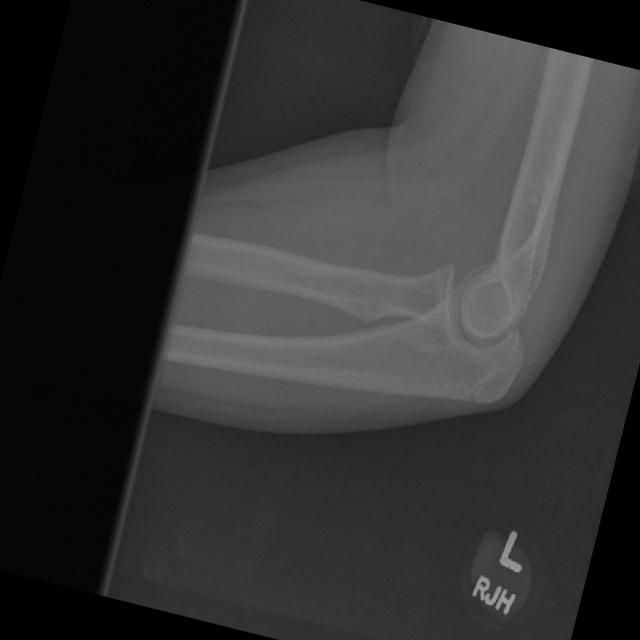elbow positive: (451, 342, 531, 435)
